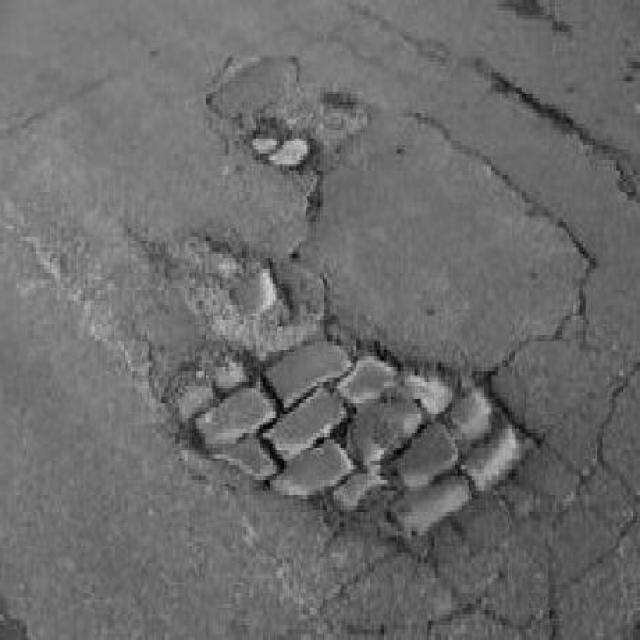Pothole: (163, 330, 544, 554), (172, 227, 304, 347), (249, 116, 317, 172)
